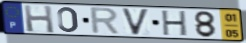0: (56, 7, 79, 34)
8: (193, 10, 218, 39)
H: (22, 4, 57, 34), (161, 10, 188, 38)
R: (89, 6, 122, 36)
V: (120, 7, 151, 36)
